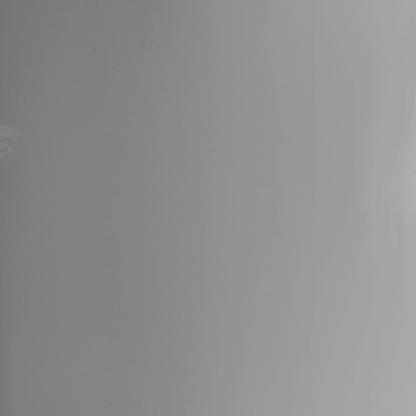sunshang: (2, 121, 22, 161)
